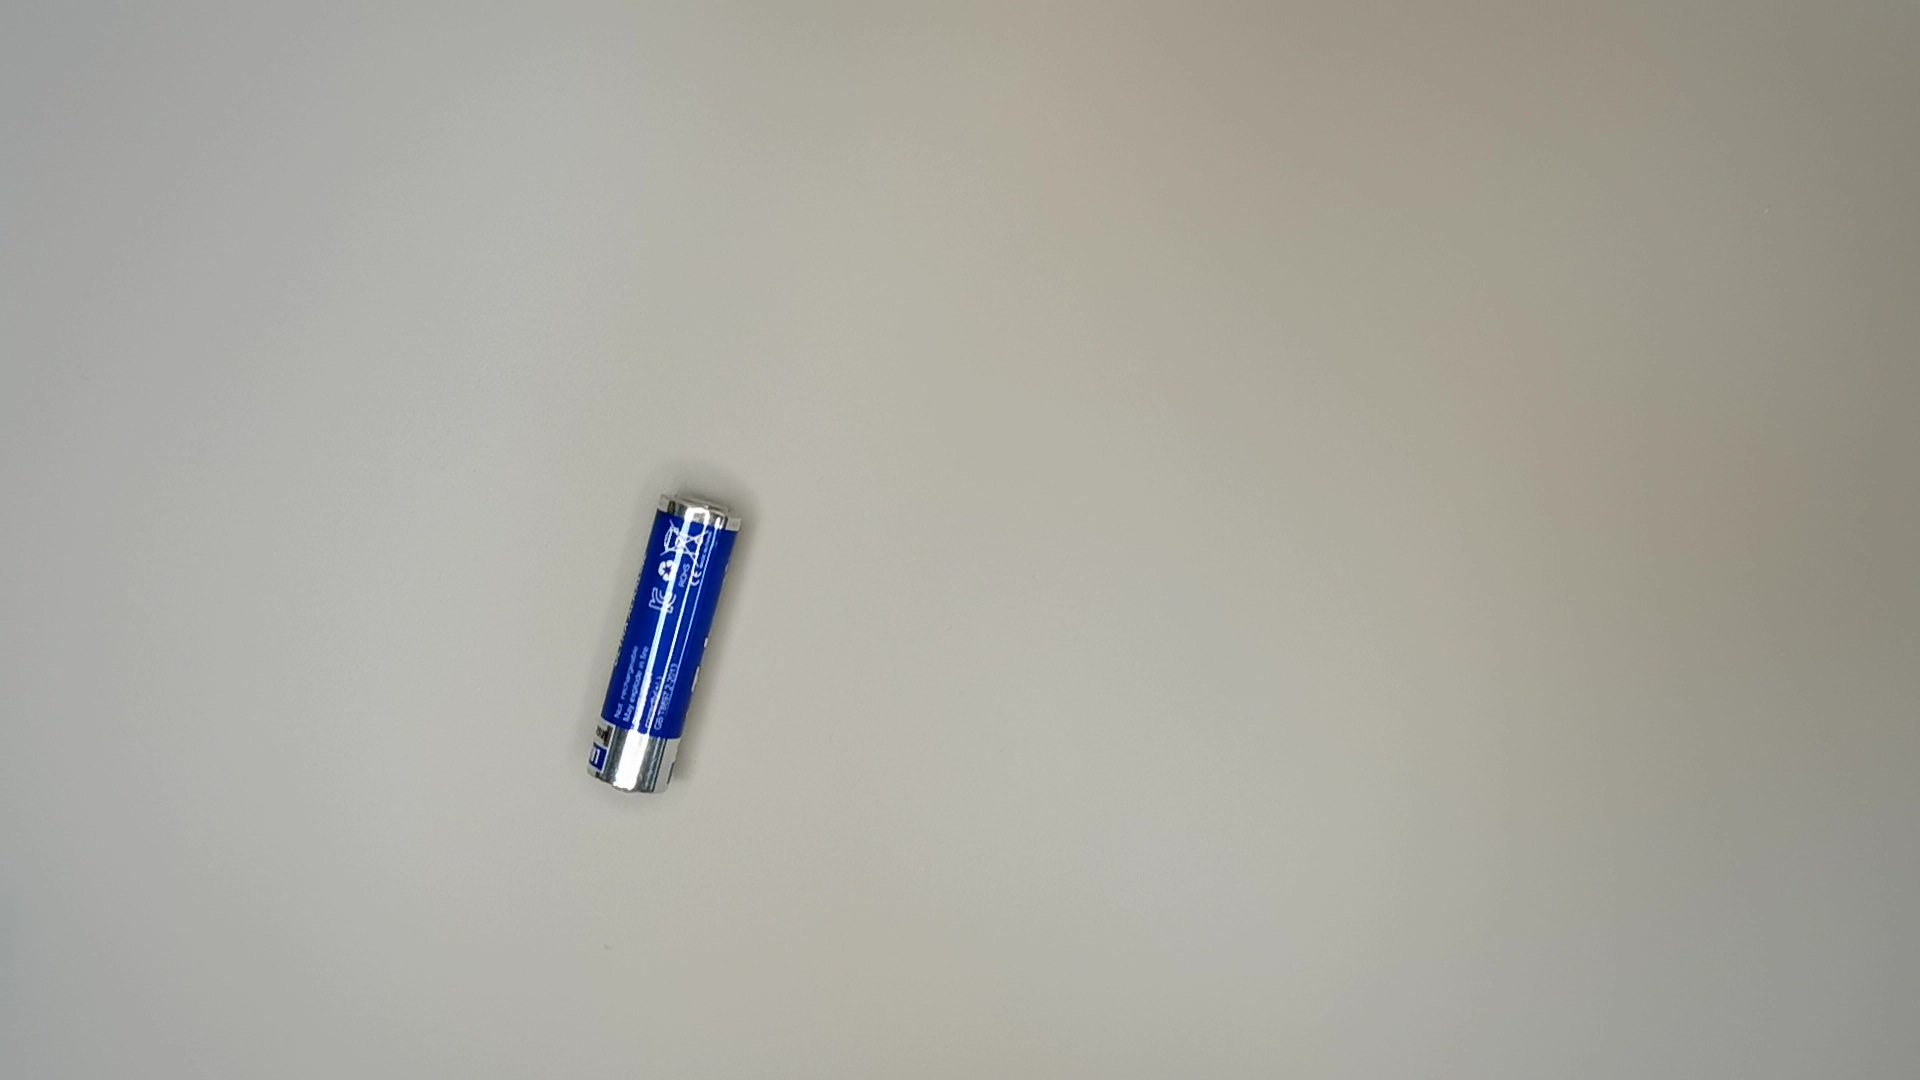battery: (580, 485, 746, 800)
